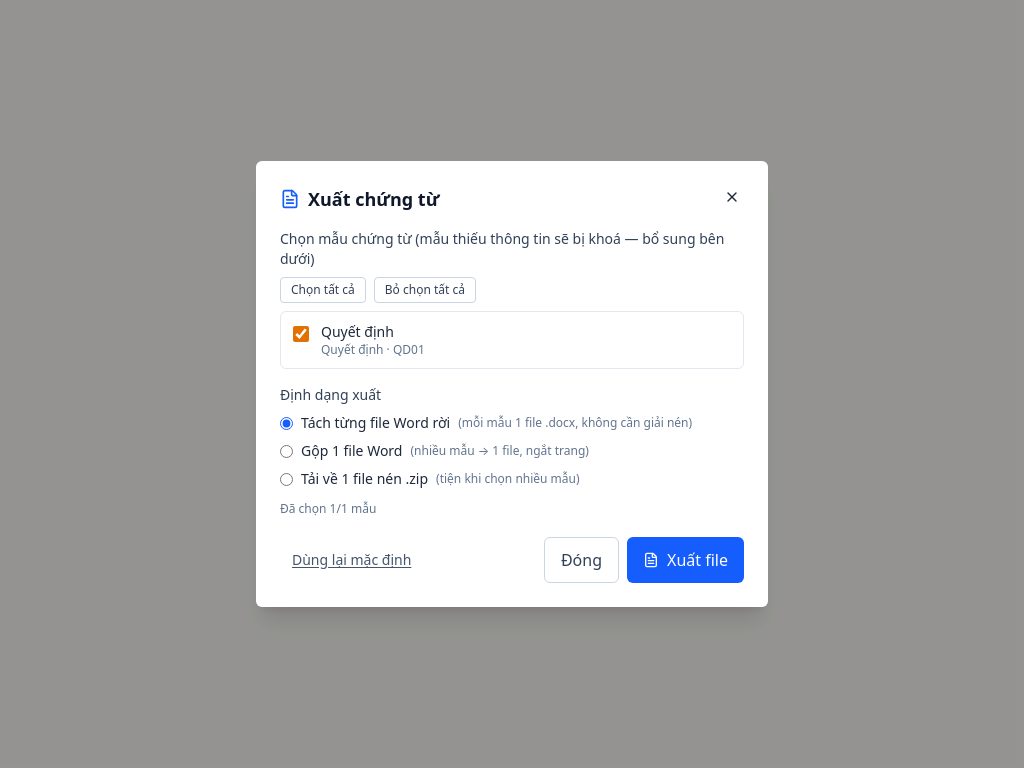
Test: Nhớ lựa chọn in chứng từ › đang Đặt lại thì nút Xuất bị khoá
Expected: the checkbox with test id "dyn-export-checkbox-t1" is checked, [293,326,309,342]
Click the button with test id "dyn-export-reset-pref". click: (352, 560)
box: [280,537,423,583]
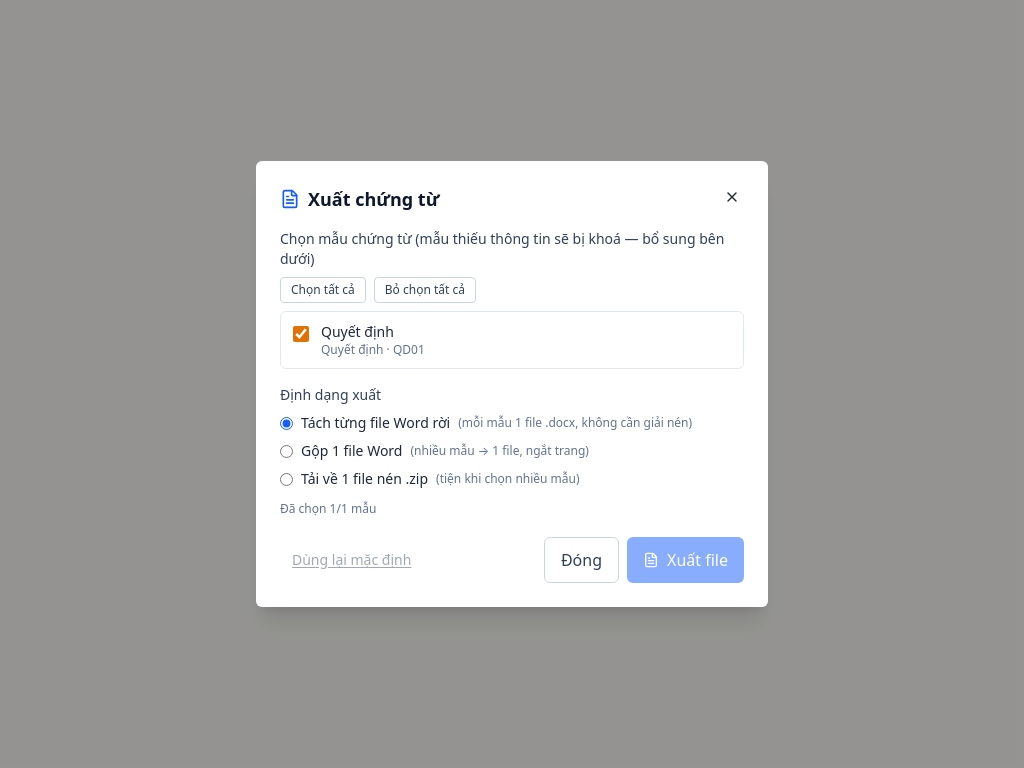
Now the button with test id "dyn-export-confirm" is disabled, box [627,537,744,583]
